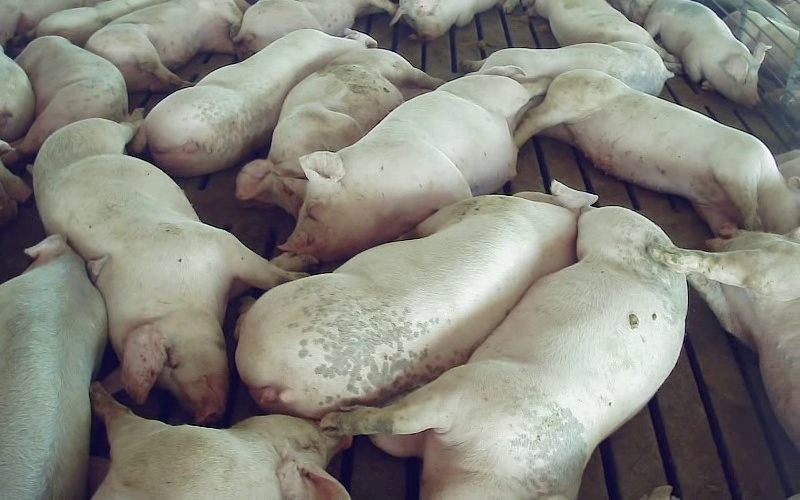pig: (322, 208, 686, 499), (36, 118, 315, 422), (282, 74, 547, 261), (514, 69, 799, 235), (132, 29, 376, 175), (237, 49, 440, 216), (651, 232, 799, 448), (92, 383, 349, 499), (0, 235, 106, 499), (4, 36, 127, 162), (643, 0, 769, 106), (466, 42, 672, 94), (531, 0, 678, 70), (234, 0, 396, 59)
